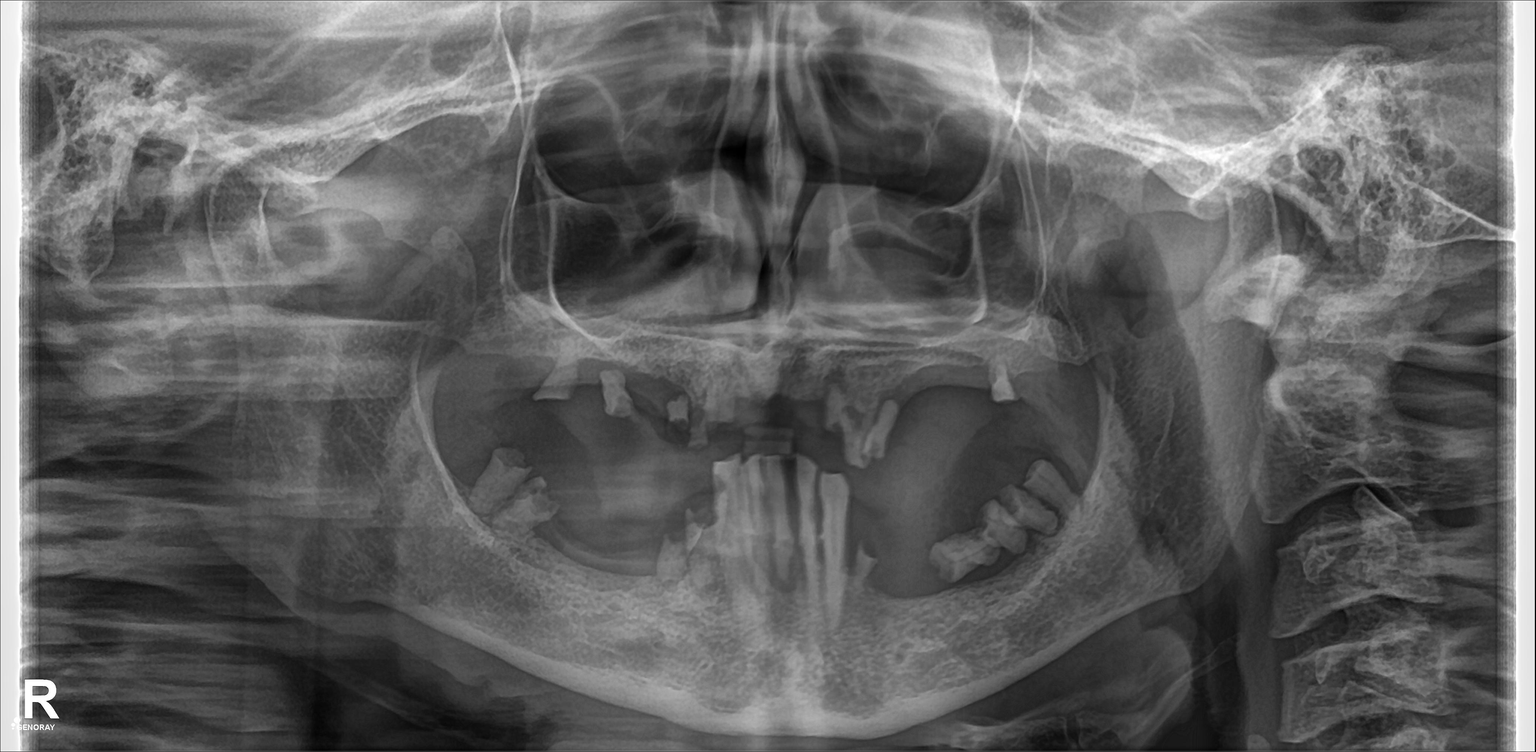Dental Caries: (687, 504, 714, 526)
Missing Tooth: (618, 471, 675, 588), (557, 486, 612, 591), (432, 419, 480, 503), (898, 516, 937, 618), (484, 337, 532, 408), (760, 370, 805, 442), (924, 365, 964, 441), (1035, 350, 1076, 414), (451, 333, 489, 401)
Retained Root: (944, 512, 991, 614), (1013, 493, 1070, 572), (665, 495, 715, 585), (574, 344, 630, 416), (698, 357, 746, 434), (866, 374, 910, 457), (516, 477, 556, 567), (976, 354, 1031, 417), (644, 356, 687, 429), (544, 329, 581, 411), (849, 532, 894, 599), (484, 447, 515, 539), (1035, 456, 1083, 515), (821, 376, 861, 445), (985, 516, 1019, 594)
